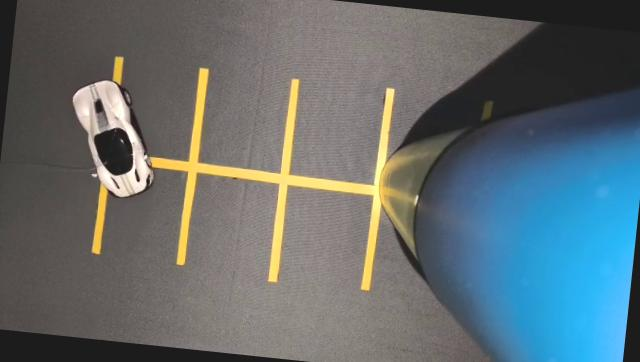toy_car: (51, 48, 176, 218)
